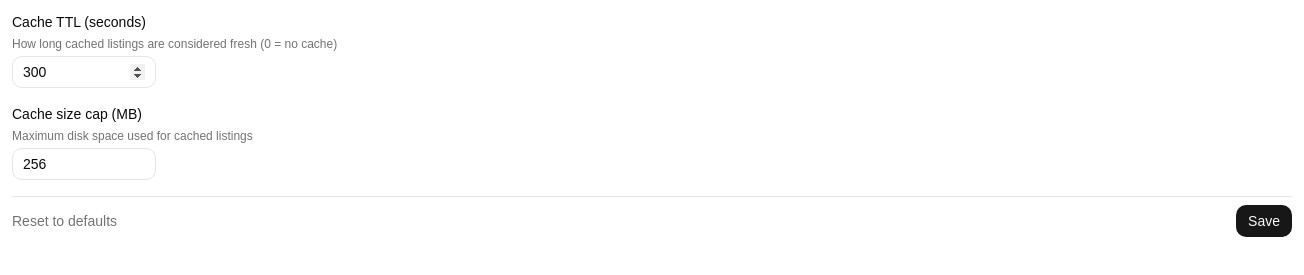
it: CachePanel › shows validation error when TTL exceeds maximum
The image size is (1304, 275).
Replace the text in the number field labelled "Cache TTL (seconds)" with "9999": (84, 72) top-left (12, 56), bottom-right (156, 88)
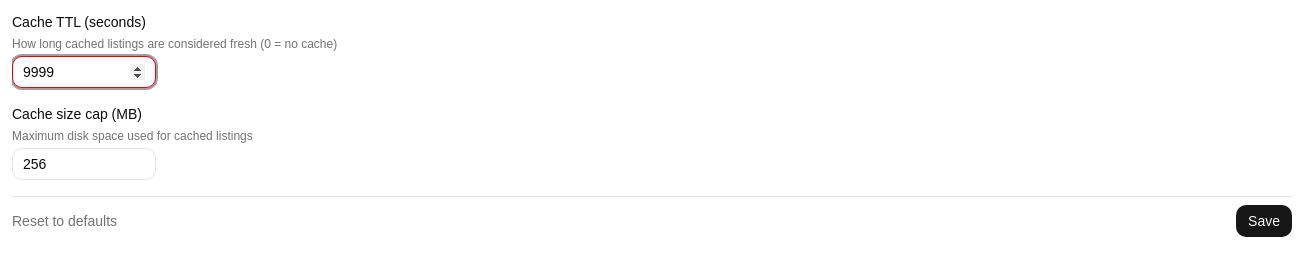
Click the button "Save": (1264, 221) top-left (1236, 205), bottom-right (1292, 237)
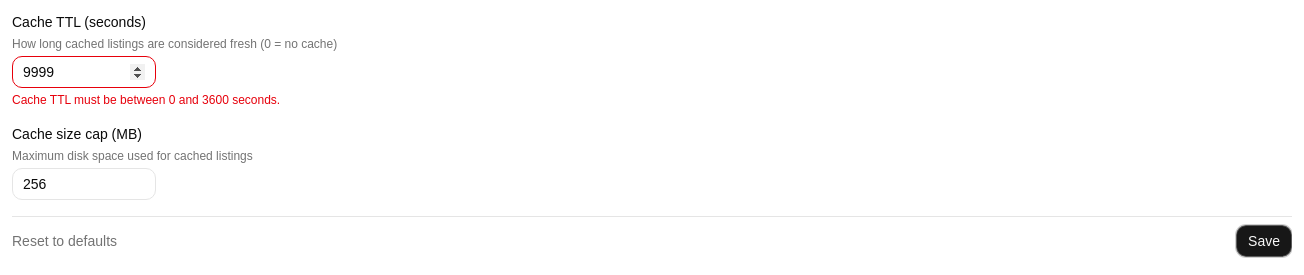
Now the text "Cache TTL must be between 0 and 3600 seconds." is shown, box top-left (12, 93), bottom-right (280, 107)
